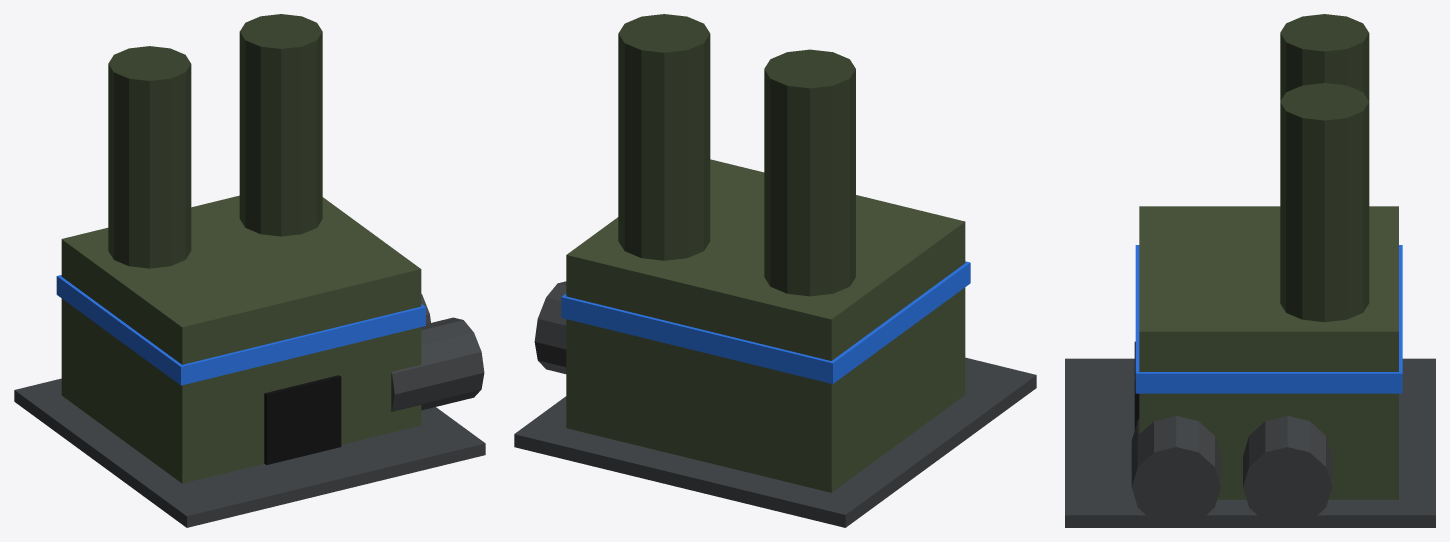
File: kp_power_plant.glb
3 renders of one model, left to right at view 1: azimuth 30°, elevation 25°; view 2: azimuth 150°, elevation 25°; view 3: azimuth 270°, elevation 25°, orthographic. The views are drawn at different scales.
Visible parts, largest first — view 1: main, base, stack_1, stack_0, team_band, fuel_tank_0, door; view 2: main, stack_1, stack_0, base, team_band, fuel_tank_1; view 3: main, base, stack_1, fuel_tank_0, fuel_tank_1, team_band, stack_0.
Part boxes in pixels (bbox=[...]): main: bbox=[61, 195, 421, 483]; base: bbox=[14, 378, 485, 527]; stack_1: bbox=[239, 14, 322, 236]; stack_0: bbox=[108, 46, 191, 268]; team_band: bbox=[56, 275, 425, 385]; fuel_tank_0: bbox=[391, 317, 484, 411]; door: bbox=[264, 375, 341, 465]; main: bbox=[566, 159, 965, 492]; stack_1: bbox=[618, 14, 710, 260]; stack_0: bbox=[764, 49, 855, 296]; base: bbox=[514, 357, 1036, 527]; team_band: bbox=[561, 261, 970, 383]; fuel_tank_1: bbox=[534, 281, 566, 373]; main: bbox=[1139, 206, 1398, 499]; base: bbox=[1065, 358, 1435, 527]; stack_1: bbox=[1280, 83, 1369, 322]; fuel_tank_0: bbox=[1131, 415, 1220, 527]; fuel_tank_1: bbox=[1243, 415, 1331, 527]; team_band: bbox=[1135, 245, 1402, 393]; stack_0: bbox=[1280, 14, 1369, 101].
Size of the model in its own units: 8.8 by 9.1 by 8.
